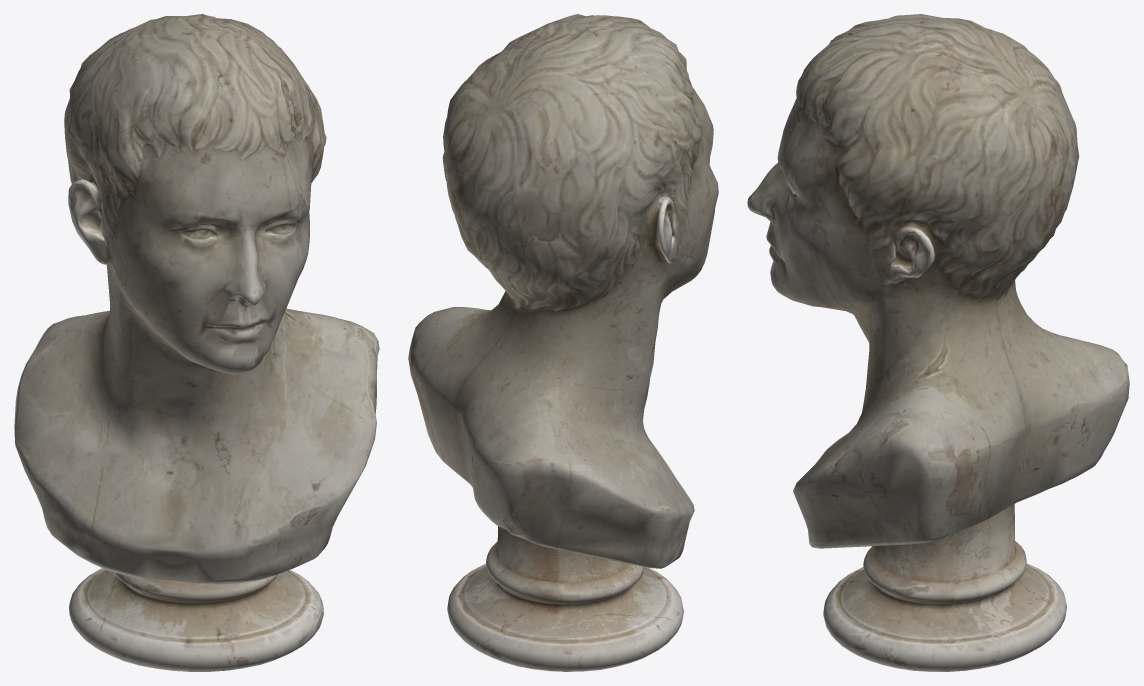
File: marble_bust_01.glb
3 renders of one model, left to right at view 1: azimuth 30°, elevation 25°; view 2: azimuth 150°, elevation 25°; view 3: azimuth 270°, elevation 25°, orthographic. The views are drawn at different scales.
Visible parts, largest first — view 1: marble_bust_01; view 2: marble_bust_01; view 3: marble_bust_01.
Part boxes in pixels (bbox=[...]): marble_bust_01: bbox=[14, 14, 379, 671]; marble_bust_01: bbox=[408, 14, 718, 671]; marble_bust_01: bbox=[747, 14, 1129, 671].
Bounding box in the file's own units: 0.2718 × 0.5148 × 0.2997.
1 material, 1 textured.
